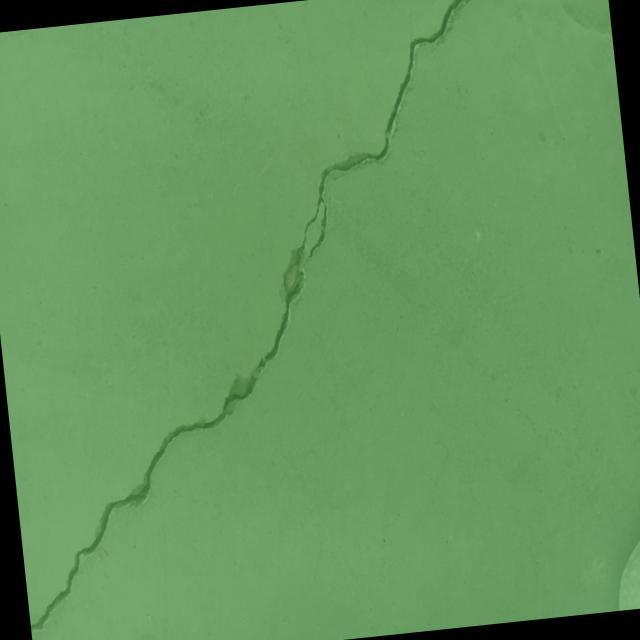crack: (0, 0, 533, 631)
